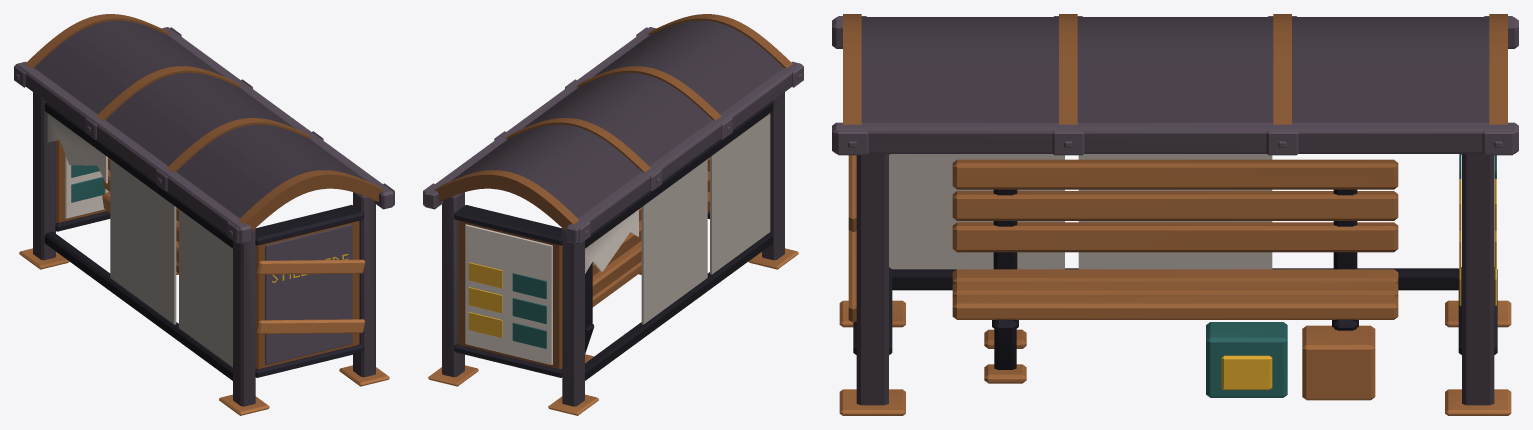
File: bld.bus-stop.w2.glb
3 renders of one model, left to right at view 1: azimuth 30°, elevation 25°; view 2: azimuth 150°, elevation 25°; view 3: azimuth 270°, elevation 25°, orthographic. The views are drawn at different scales.
Visible parts, largest first — view 1: body, roof; view 2: body, roof; view 3: body, roof.
Part boxes in pixels (x1=…): body: x1=19, y1=92, x2=389, y2=415; roof: x1=14, y1=14, x2=394, y2=243; body: x1=428, y1=92, x2=798, y2=415; roof: x1=423, y1=14, x2=803, y2=243; body: x1=839, y1=154, x2=1511, y2=415; roof: x1=832, y1=14, x2=1518, y2=155.
Bounding box in the file's own units: 2.04 × 2.68 × 4.97.
